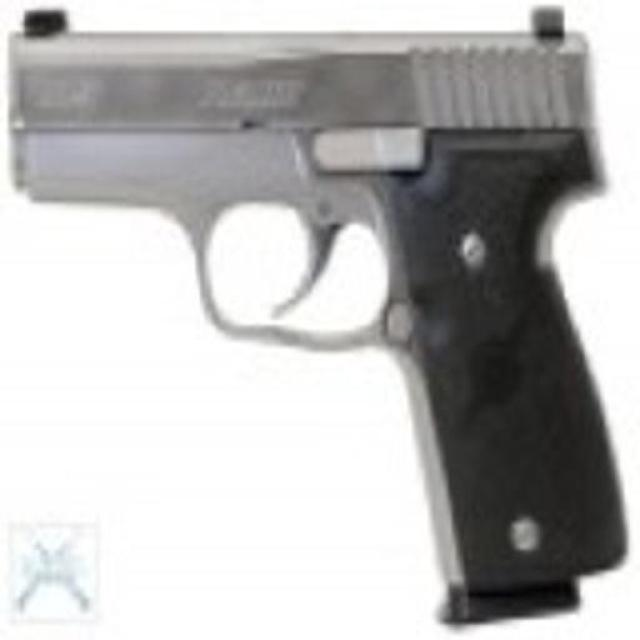pistol: (4, 5, 628, 624)
